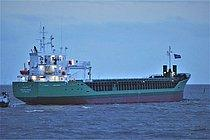Ship: (12, 20, 194, 110)
